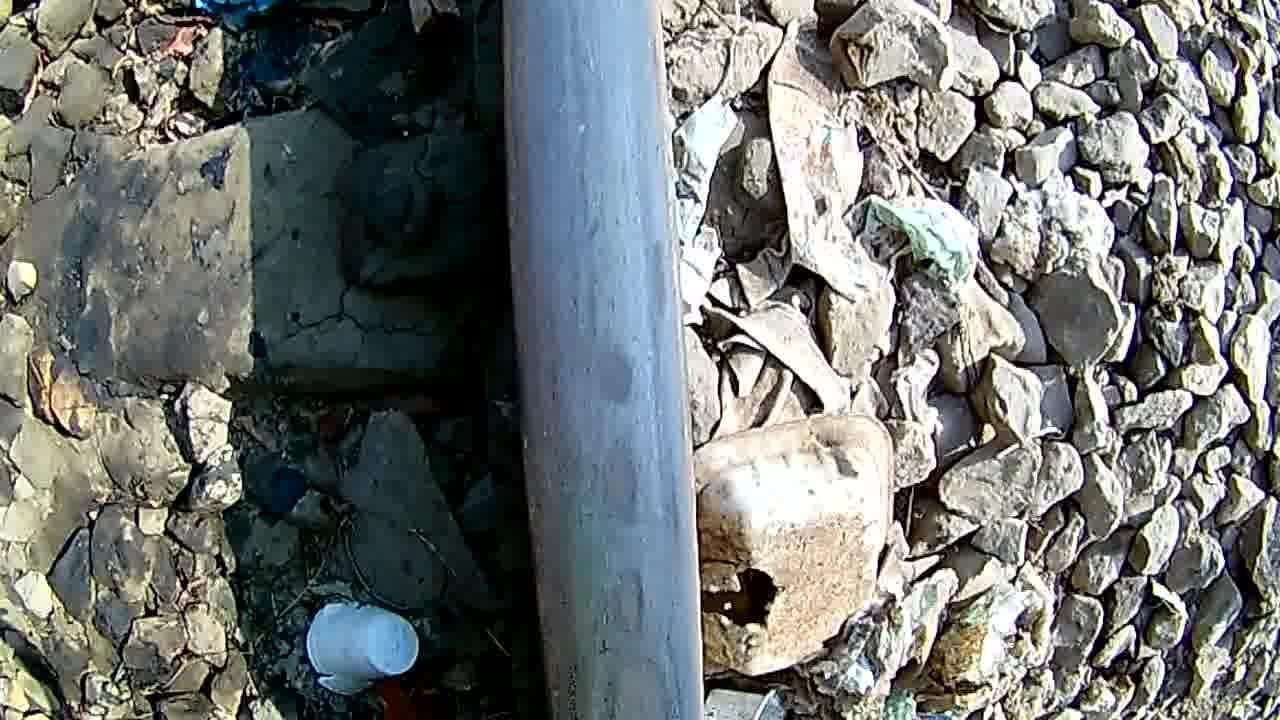crack: (493, 266, 701, 720)
